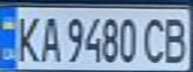0: (118, 13, 142, 64)
4: (81, 14, 103, 63)
8: (100, 14, 121, 63)
9: (63, 14, 84, 63)
A: (36, 12, 63, 63)
B: (160, 12, 193, 64)
C: (139, 13, 172, 64)
K: (9, 11, 42, 63)
